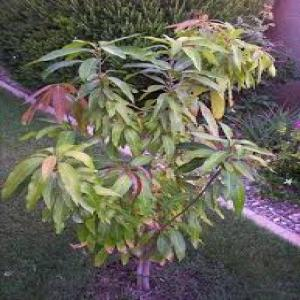Tree: (6, 14, 286, 285)
